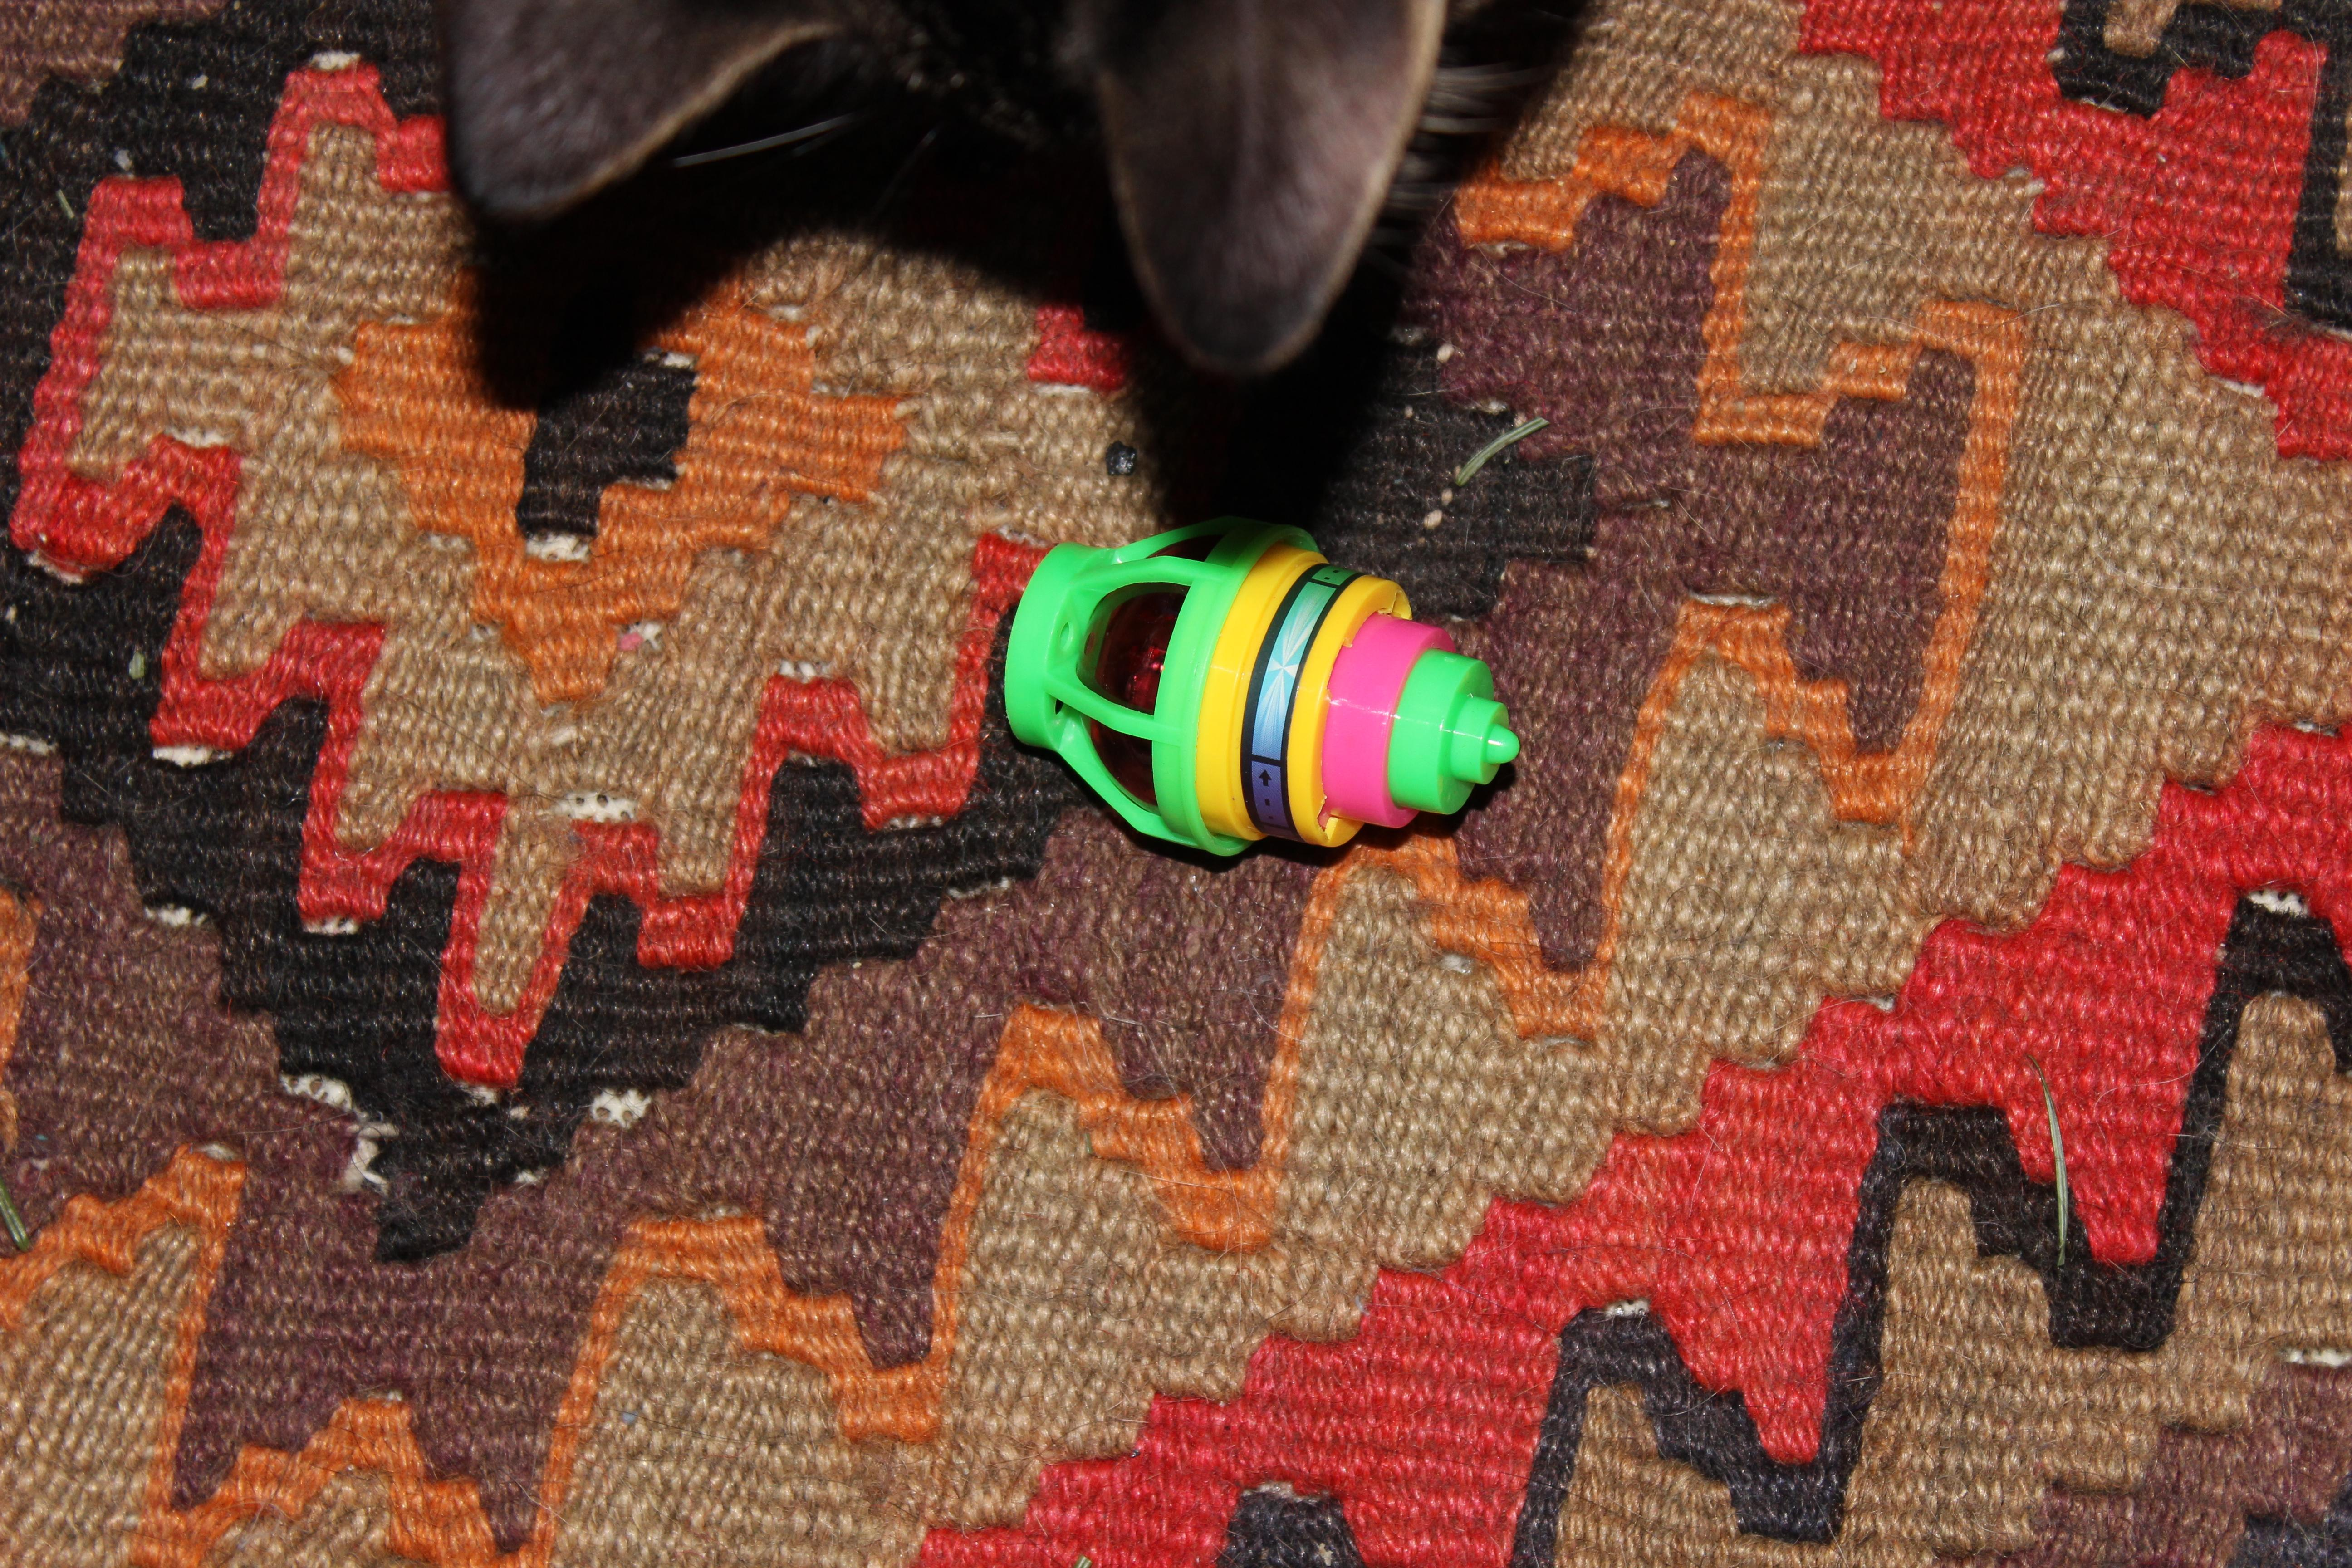gyroscope: (982, 492, 1552, 889)
